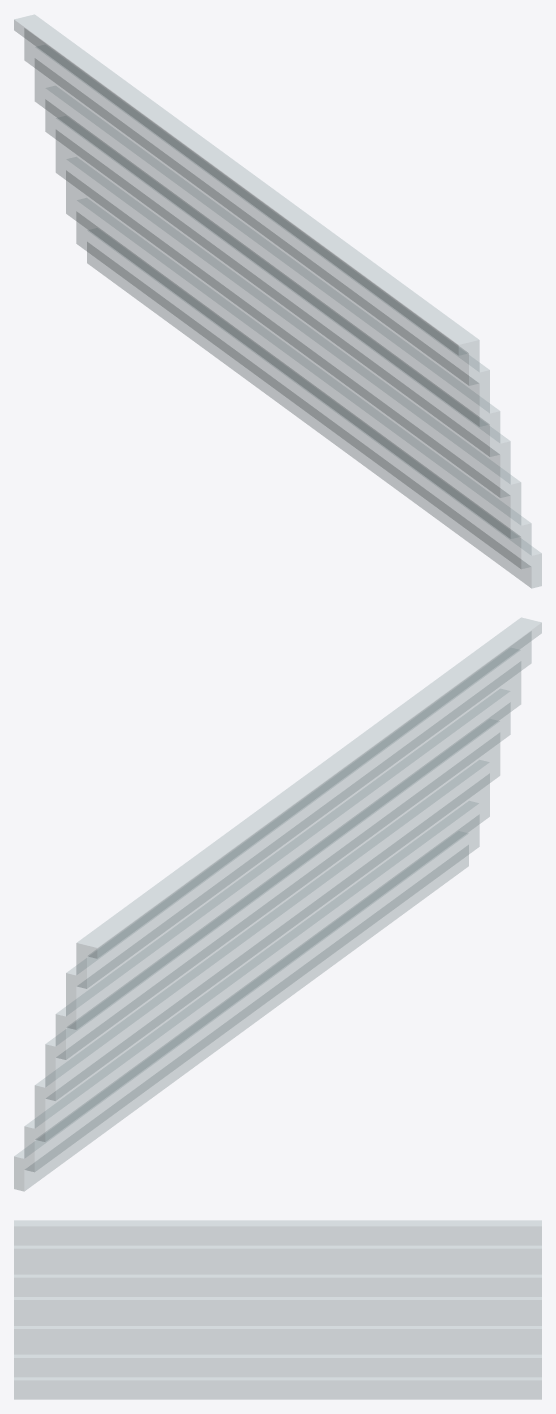
File: tanker_truck_windscreen.glb
3 views of the same model, one above another, from view 1: azimuth 30°, elevation 25°; view 2: azimuth 150°, elevation 25°; view 3: azimuth 270°, elevation 25° (orthographic). The views are drawn at different scales.
Visible parts, largest first — view 1: body:compound; view 2: body:compound; view 3: body:compound.
Part boxes in pixels (x1=…): body:compound: x1=14, y1=14, x2=541, y2=588; body:compound: x1=14, y1=617, x2=541, y2=1191; body:compound: x1=14, y1=1220, x2=541, y2=1399.
Bounding box in the file's own units: 0.25 × 0.75 × 2.31.
